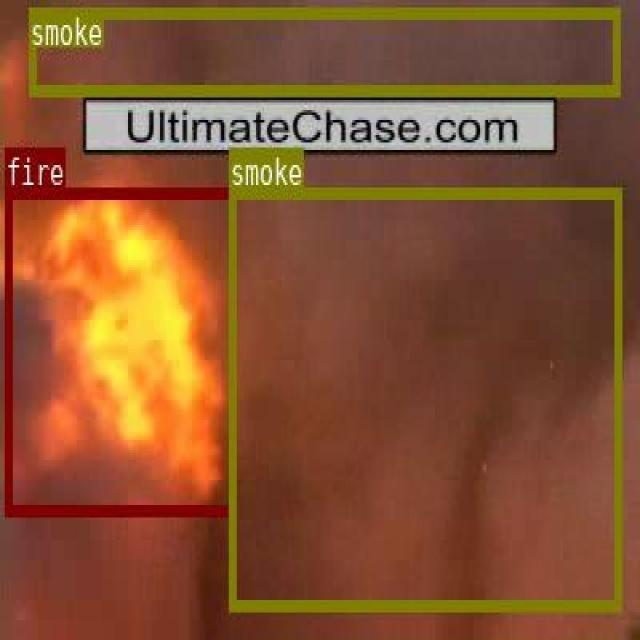fire: (4, 185, 234, 514)
smoke: (228, 187, 620, 610), (29, 7, 618, 94)
